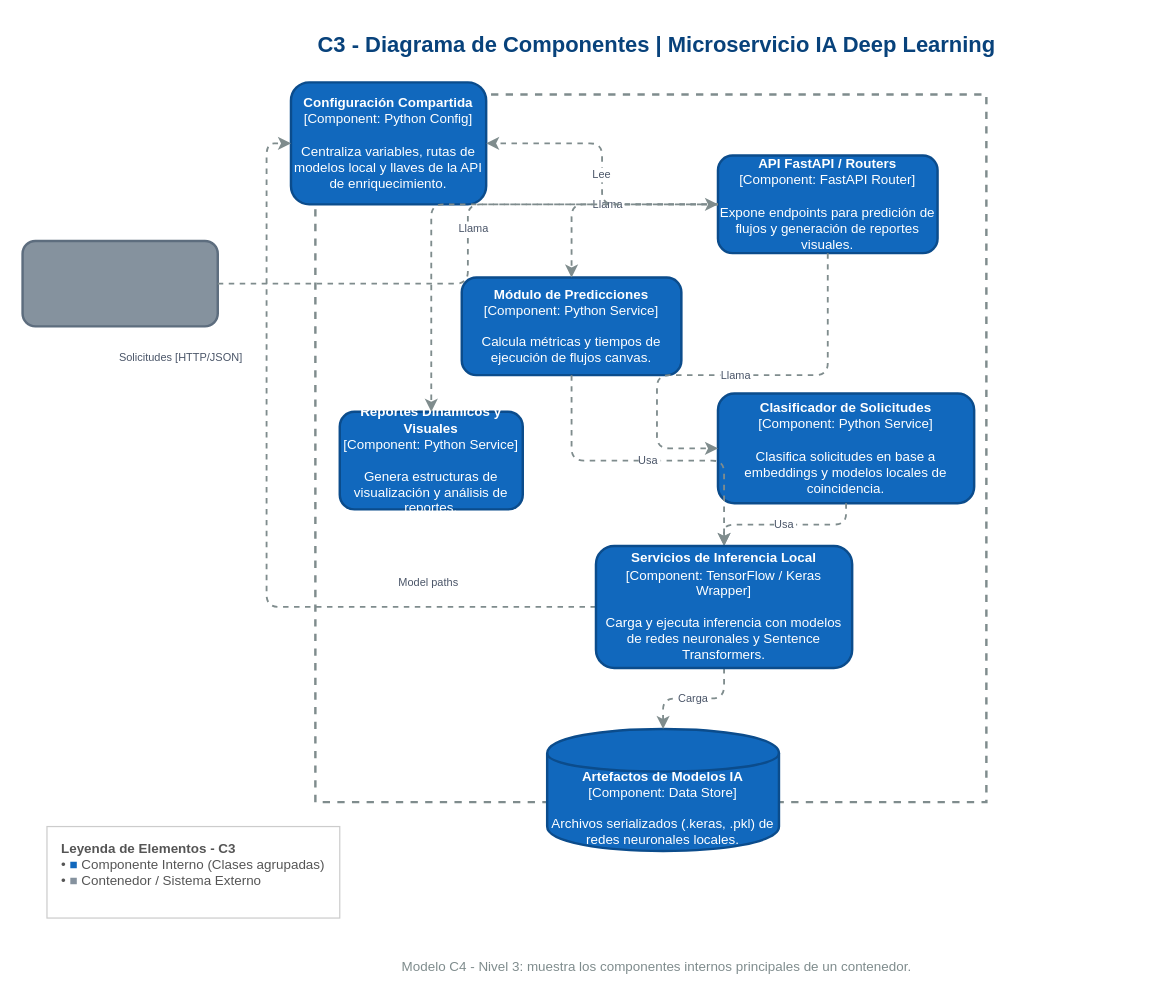
This 1165x1005 diagram has some shape labels left out. The shapes that lost their labels are listed below. From the top down, each one's box as (x1, y1, x2, y2) in pixels, then its label:
(21, 239, 218, 327): Backend / API Principal [Container]
(314, 93, 987, 803): Microservicio IA Deep Learning [Container: FastAPI / Python / TensorFlow]
